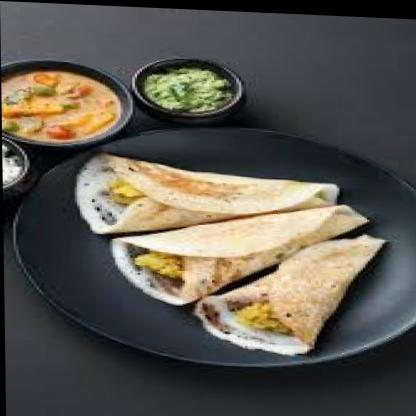dosa: (110, 192, 369, 309), (193, 224, 387, 355), (74, 151, 339, 240)
